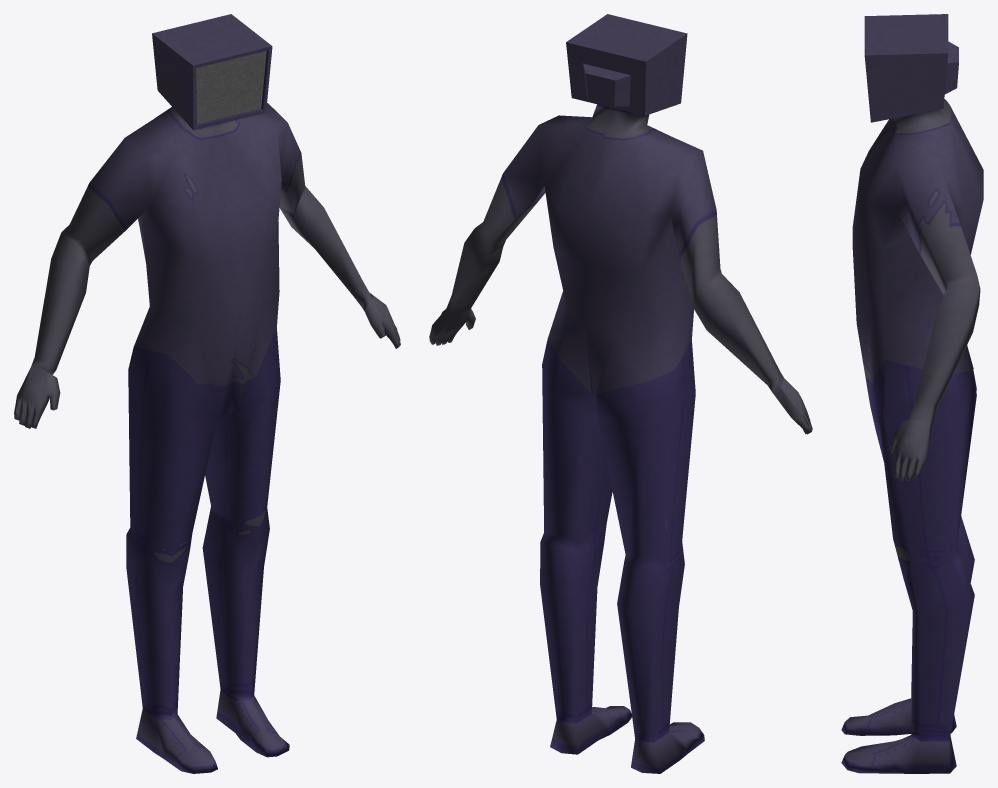
File: zombie_export.fbx
3 renders of one model, left to right at view 1: azimuth 30°, elevation 25°; view 2: azimuth 150°, elevation 25°; view 3: azimuth 270°, elevation 25°, orthographic.
Parts seen in each view (by area): view 1: zombie_mesh; view 2: zombie_mesh; view 3: zombie_mesh.
Boxes of the visible parts, x1,y1,x2,y2 form: zombie_mesh: (14,14,400,773); zombie_mesh: (429,14,812,773); zombie_mesh: (841,14,983,773).
Bounding box in the file's own units: 3.87 × 6.83 × 1.24.
Materials: 1 (1 with a texture image).
